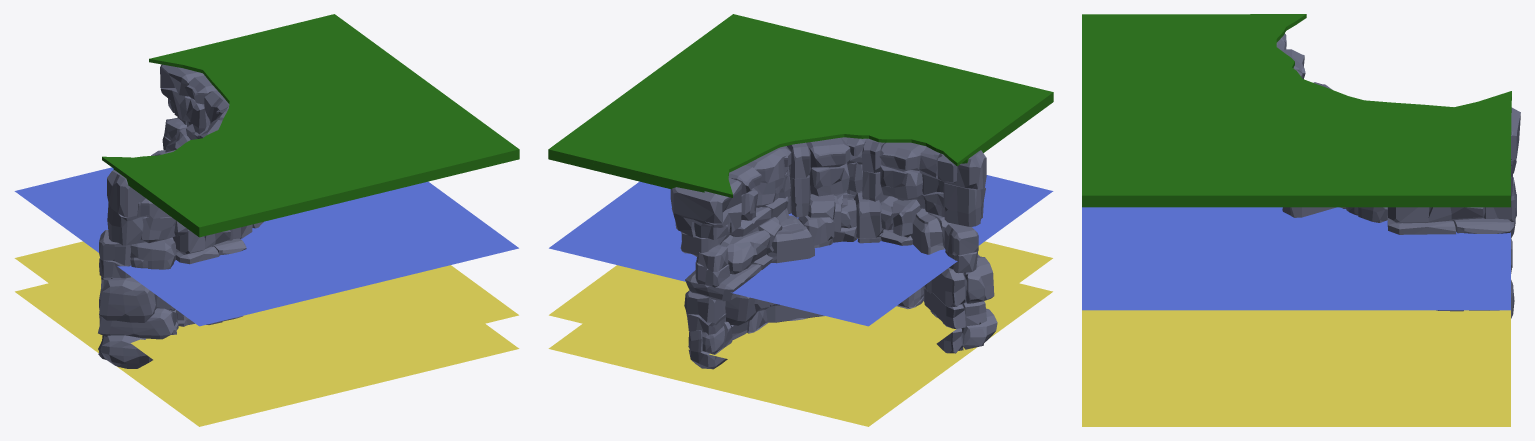
Rendered from 13__tile.fbx.
3 renders of one model, left to right at view 1: azimuth 30°, elevation 25°; view 2: azimuth 150°, elevation 25°; view 3: azimuth 270°, elevation 25°, orthographic. The views are drawn at different scales.
Parts seen in each view (by area): view 1: 13__tile; view 2: 13__tile; view 3: 13__tile.
Part boxes in pixels (box(x1,y1,x2,y2)): 13__tile: box(14, 14, 519, 426); 13__tile: box(548, 14, 1053, 426); 13__tile: box(1082, 14, 1520, 426).
Bounding box in the file's own units: 213 × 119 × 205.
